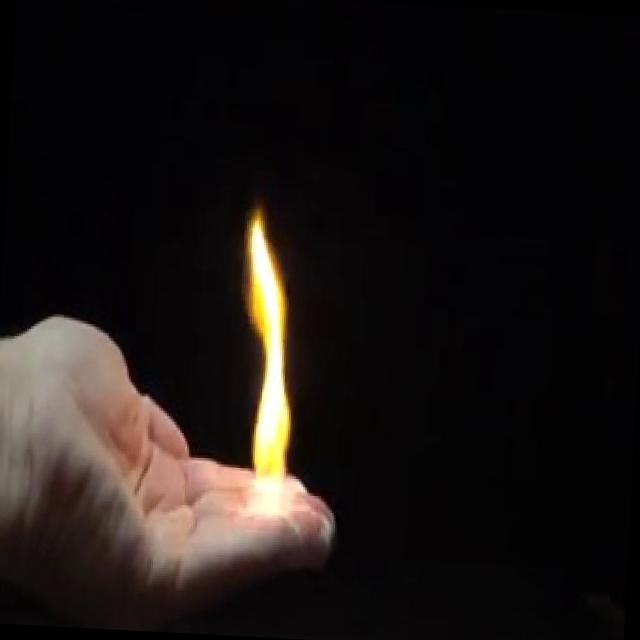Fire: (224, 198, 314, 528)
